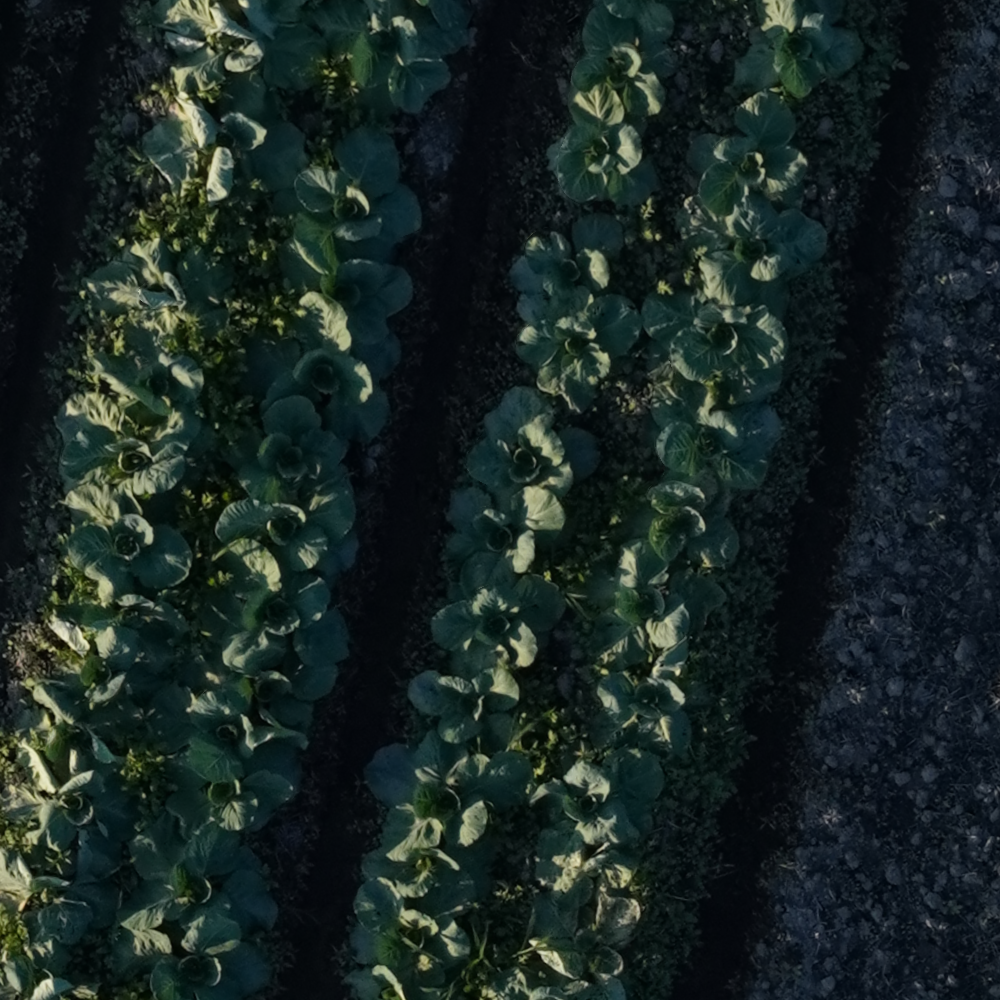Cabbage: (363, 730, 537, 895), (194, 537, 349, 698), (242, 290, 400, 446), (143, 68, 309, 204), (275, 125, 421, 279), (120, 811, 281, 940), (123, 0, 328, 98), (528, 748, 664, 895), (642, 280, 789, 414), (26, 625, 165, 765), (143, 681, 309, 794), (675, 184, 827, 307), (578, 542, 725, 669), (558, 638, 708, 756), (311, 1, 466, 113), (59, 481, 193, 610), (349, 862, 486, 987), (1, 727, 133, 853), (466, 386, 600, 510), (429, 549, 567, 667), (1, 828, 136, 946), (514, 290, 641, 415), (56, 390, 203, 496), (685, 91, 807, 218), (216, 471, 356, 577), (106, 908, 268, 999), (546, 82, 660, 210), (276, 239, 411, 347), (81, 239, 231, 336), (223, 394, 348, 503), (176, 635, 313, 731), (610, 469, 738, 570), (651, 396, 782, 492), (526, 875, 643, 981), (572, 4, 679, 118), (736, 0, 862, 96), (408, 643, 522, 749), (443, 485, 566, 583), (45, 594, 190, 672), (89, 321, 207, 416), (508, 213, 624, 299), (168, 757, 292, 834), (5, 940, 101, 999), (489, 965, 627, 1000), (343, 966, 445, 1000), (603, 1, 659, 20)
